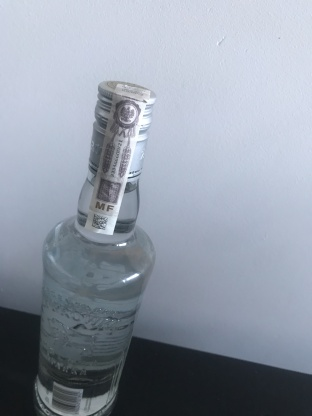nakretka: (86, 74, 158, 183)
